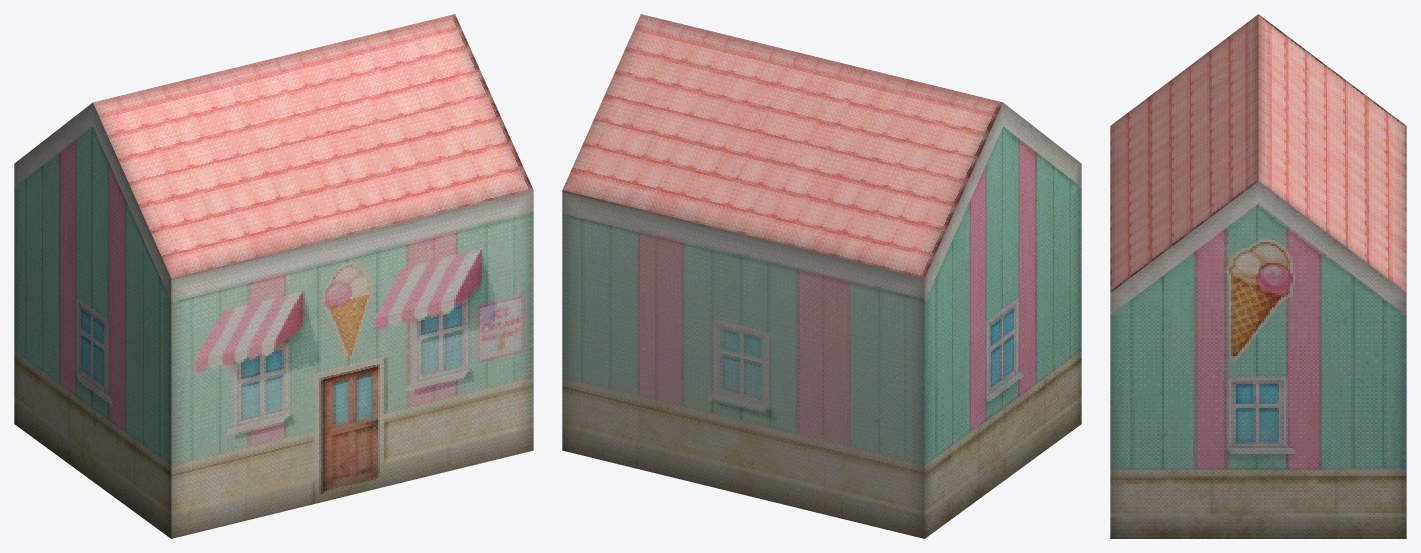
Rendered from icecream.glb.
3 renders of one model, left to right at view 1: azimuth 30°, elevation 25°; view 2: azimuth 150°, elevation 25°; view 3: azimuth 270°, elevation 25°, orthographic. The views are drawn at different scales.
Parts seen in each view (by area): view 1: Cheerful Modern Ice; view 2: Cheerful Modern Ice; view 3: Cheerful Modern Ice.
Part boxes in pixels (<box>): Cheerful Modern Ice: <box>14,14,533,538</box>; Cheerful Modern Ice: <box>562,14,1081,538</box>; Cheerful Modern Ice: <box>1110,14,1406,538</box>.
Bounding box in the file's own units: 8 × 8 × 6.
1 material, 1 textured.
